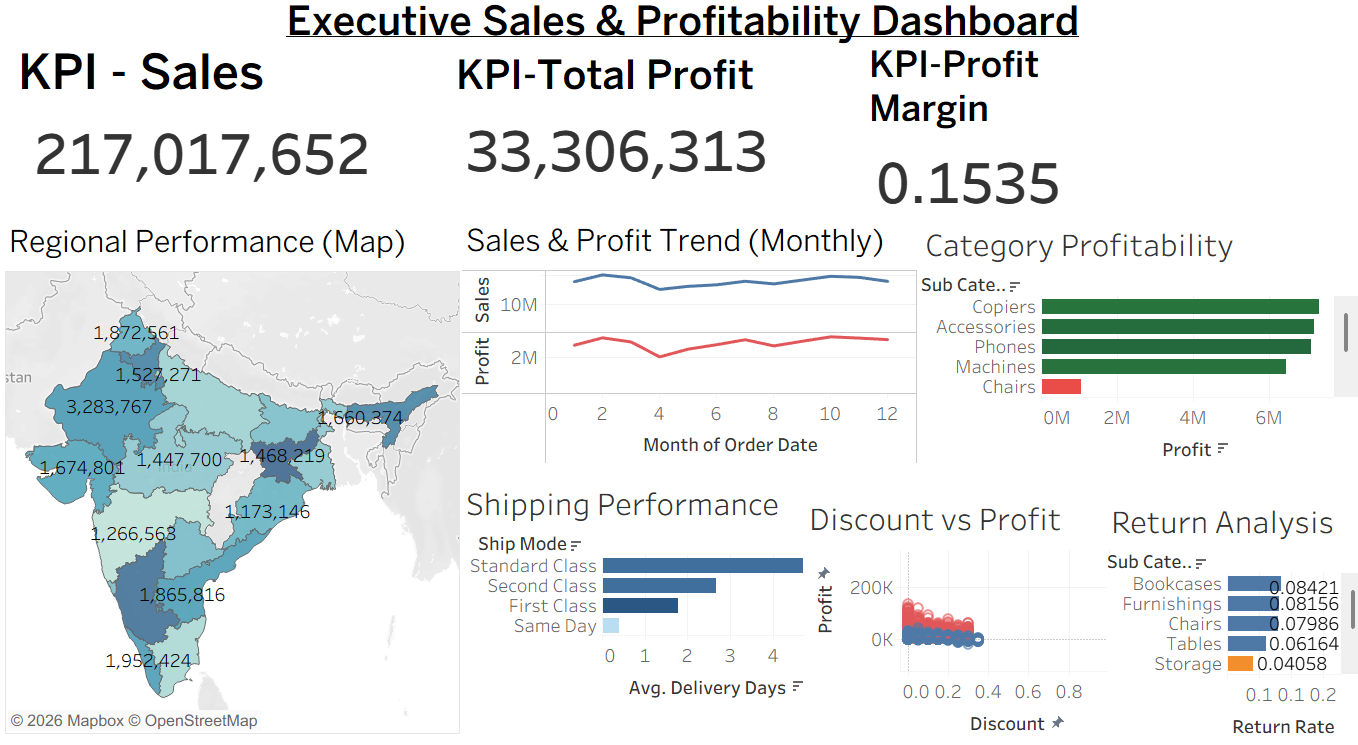

This screenshot's page, from the dashboard's own definition file:
{"tool":"tableau","page":{"name":"Executive Dashboard","canvas":[1366,768],"ordinal":0},"visuals":[{"type":"title","box":[8,8,1350,56]},{"type":"worksheet","title":"KPI - Profit Margin","mark":"Automatic","box":[865,54,430,189]},{"type":"worksheet","title":"KPI - Sales","mark":"Automatic","box":[14,55,443,184]},{"type":"worksheet","title":"KPI - Total Profit","mark":"Automatic","box":[452,62,416,176]},{"type":"worksheet","title":"Sales Trend","mark":"Automatic","rows":["sales","profit"],"cols":["order_date"],"box":[462,232,455,247]},{"type":"worksheet","title":"Regional Performance","mark":"Automatic","box":[5,233,455,516]},{"type":"worksheet","title":"Category Profitability","mark":"Automatic","rows":["sub_category"],"cols":["profit"],"box":[921,234,437,249]},{"type":"worksheet","title":"Shipping Performance","mark":"Automatic","rows":["ship_mode"],"cols":["delivery_days"],"box":[462,493,351,249]},{"type":"worksheet","title":"Discount vs Profit","mark":"Automatic","rows":["profit"],"cols":["discount"],"box":[805,508,310,249]},{"type":"worksheet","title":"Return Analysis","mark":"Automatic","rows":["sub_category"],"cols":["Calculation_0705079033507845"],"box":[1107,511,258,249]}]}

Visuals, with their boxes in screenshot pixels (x1, y1, x2, y2), scaled from the page's 1366x768 canvas onto the 1358x745 screenshot:
title: select_region(8, 8, 1350, 62)
"KPI - Profit Margin" worksheet: select_region(860, 52, 1287, 236)
"KPI - Sales" worksheet: select_region(14, 53, 454, 232)
"KPI - Total Profit" worksheet: select_region(449, 60, 863, 231)
"Sales Trend" worksheet: select_region(459, 225, 912, 465)
"Regional Performance" worksheet: select_region(5, 226, 457, 727)
"Category Profitability" worksheet: select_region(916, 227, 1350, 469)
"Shipping Performance" worksheet: select_region(459, 478, 808, 720)
"Discount vs Profit" worksheet: select_region(800, 493, 1108, 734)
"Return Analysis" worksheet: select_region(1101, 496, 1357, 737)
